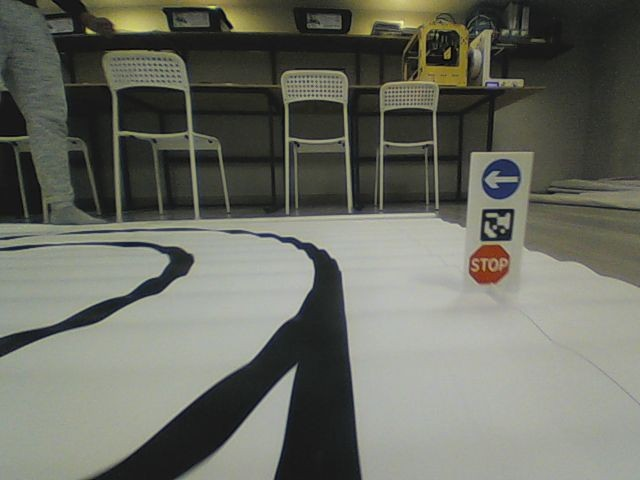Stop: (468, 243, 511, 286)
